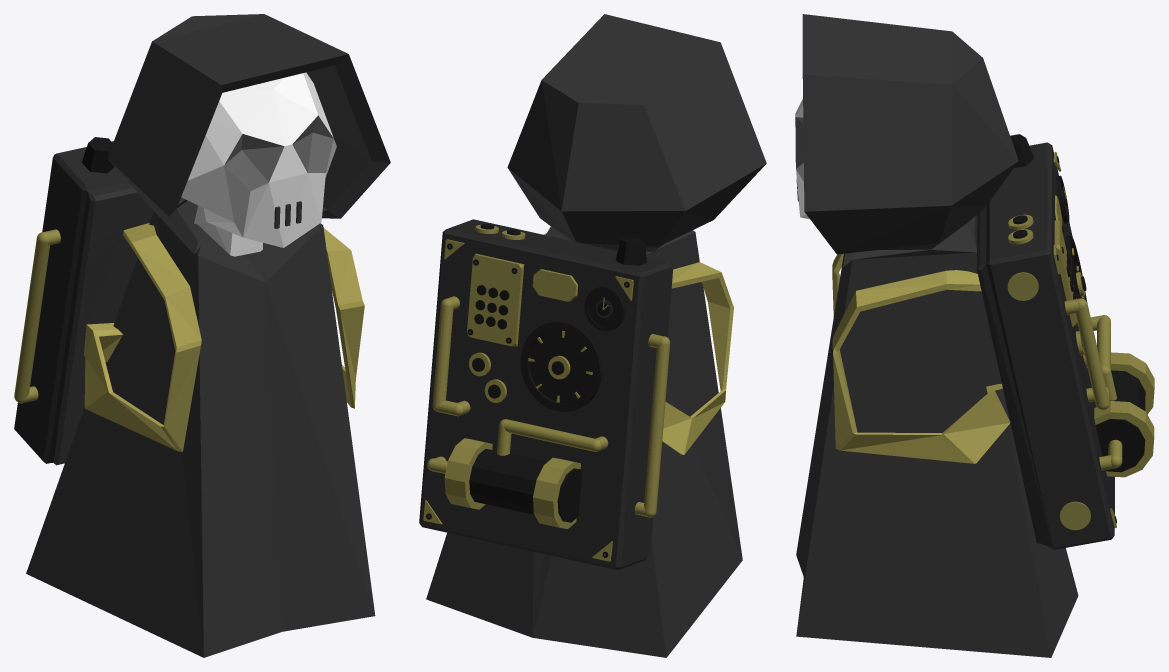
File: avatar-armless.dae
3 views of the same model, side by side, from view 1: azimuth 30°, elevation 25°; view 2: azimuth 150°, elevation 25°; view 3: azimuth 270°, elevation 25° (orthographic). The views are drawn at different scales.
Parts seen in each view (by area): view 1: Icosphere_001; view 2: Icosphere_001; view 3: Icosphere_001.
Part boxes in pixels (x1,y1,x2,y2): Icosphere_001: [14, 14, 390, 657]; Icosphere_001: [419, 14, 766, 657]; Icosphere_001: [795, 14, 1154, 657].
Bounding box in the file's own units: 1.07 × 1.3 × 2.2.
